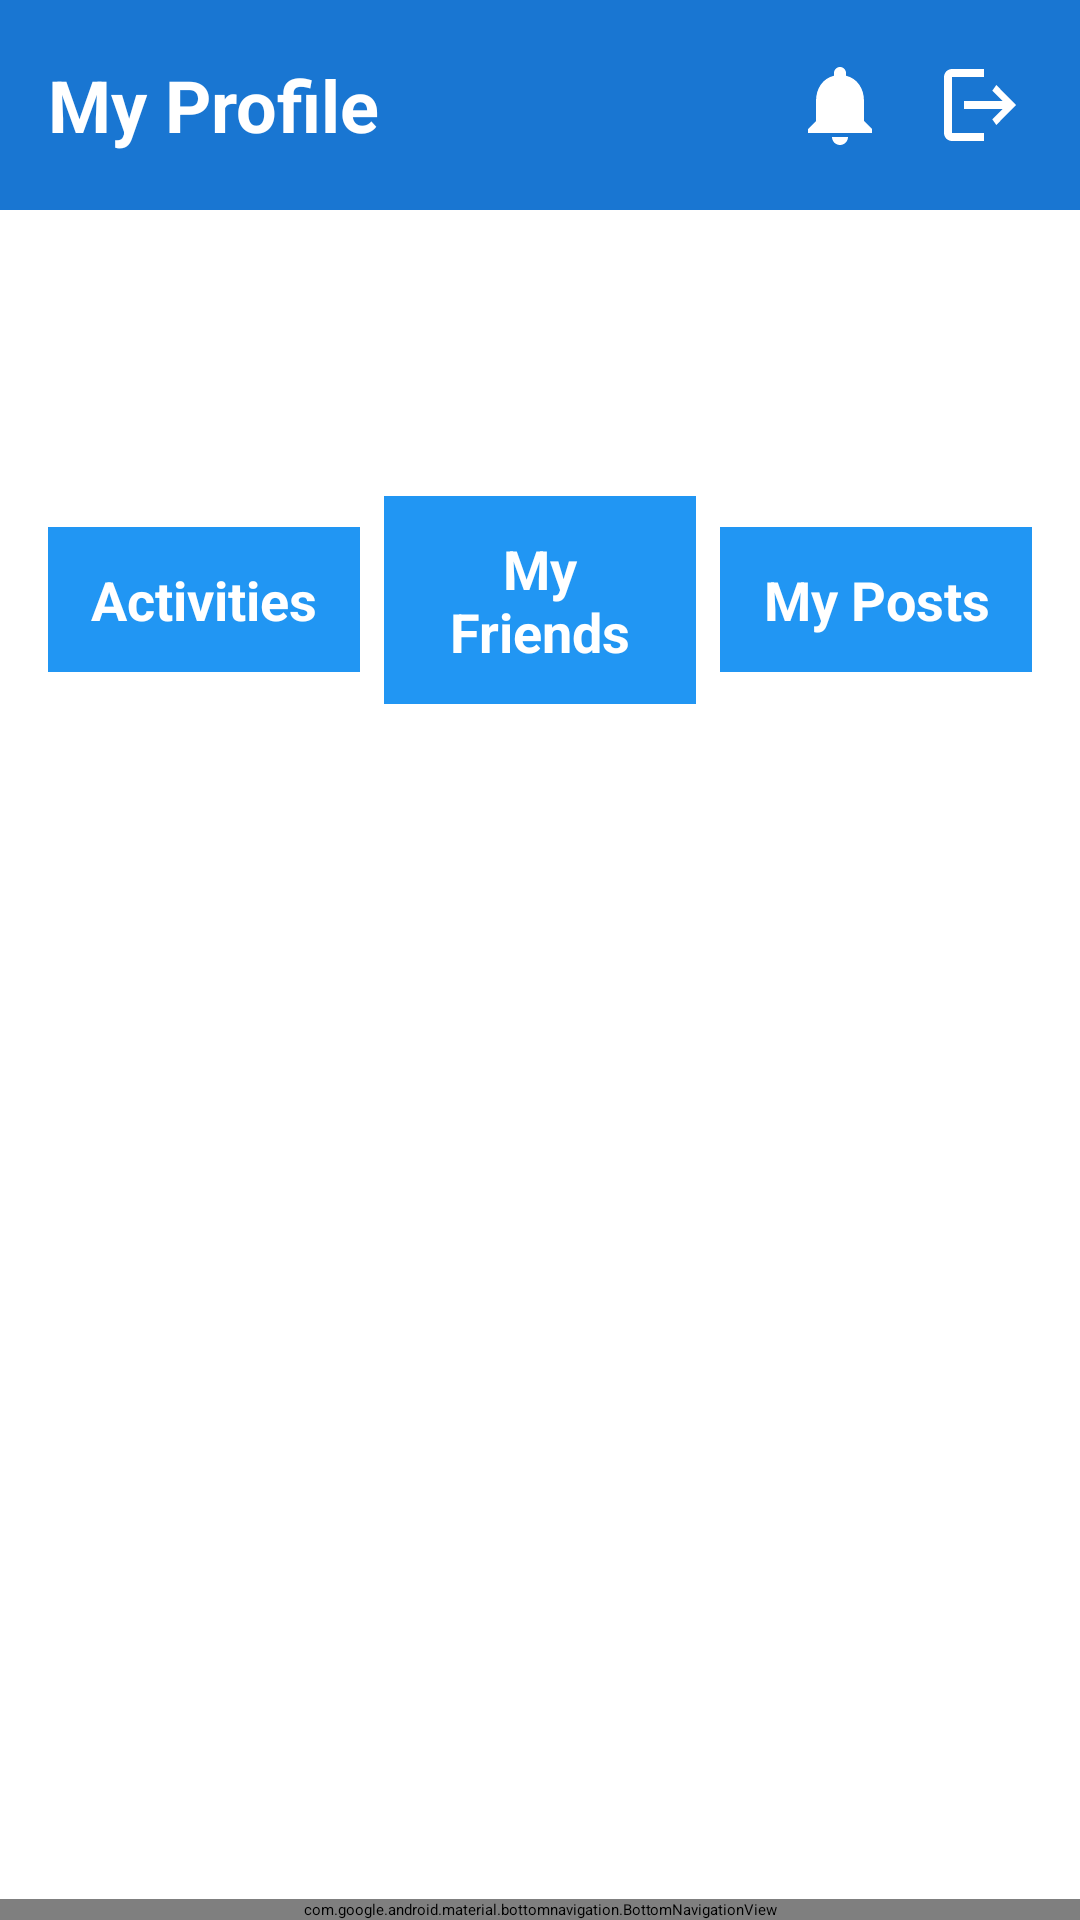

Where to tap for icons on this 1080*1920 app screen, as (x,y):
notifications: (840,106)
